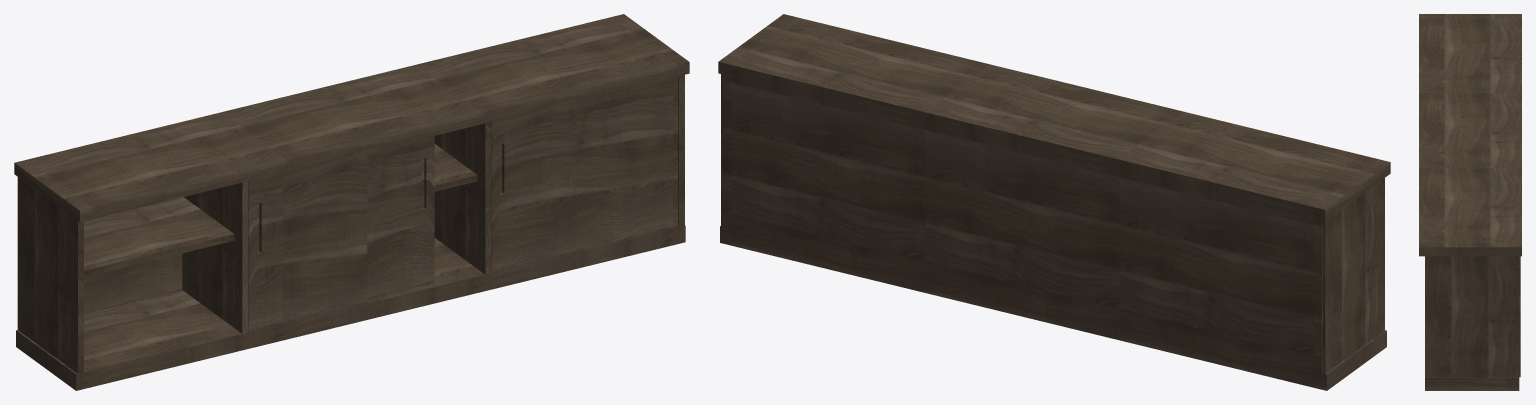
The model's file is Bar furniture.FBX.
3 views of the same model, side by side, from view 1: azimuth 30°, elevation 25°; view 2: azimuth 150°, elevation 25°; view 3: azimuth 270°, elevation 25° (orthographic). The views are drawn at different scales.
Parts seen in each view (by area): view 1: bar furniture; view 2: bar furniture; view 3: bar furniture.
Part boxes in pixels (x1,y1,x2,y2): bar furniture: (14,14,689,390); bar furniture: (718,14,1390,390); bar furniture: (1419,14,1521,390).
Size of the model in its own units: 353 by 101 by 65.75.
1 material, 1 textured.
